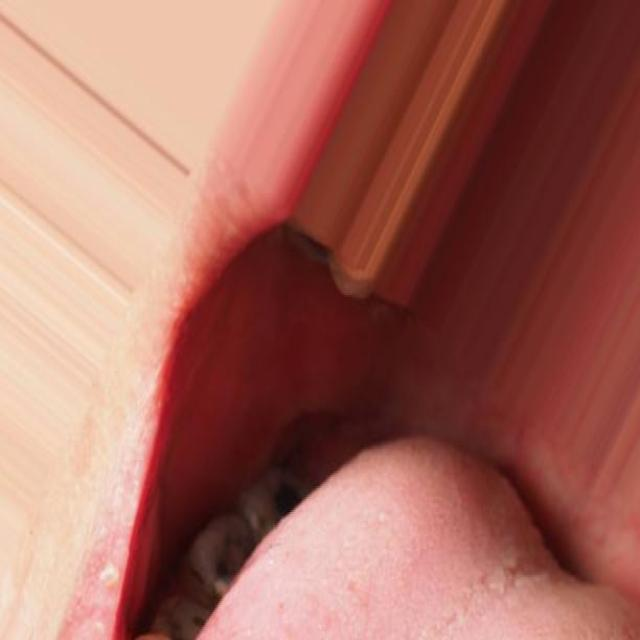caries: (247, 458, 308, 543), (188, 513, 252, 593), (152, 579, 218, 640)
